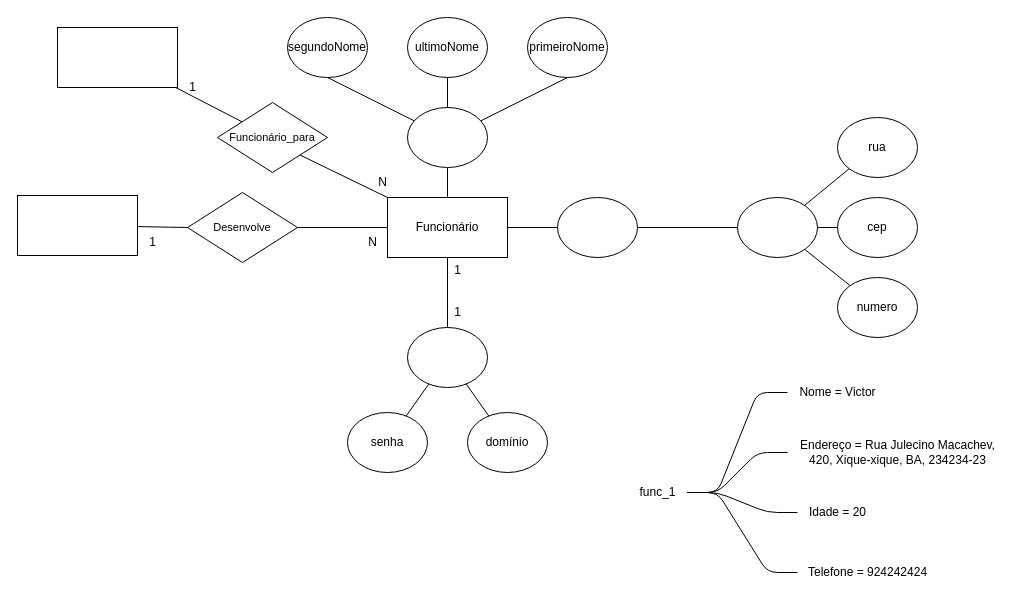
Some shapes in this 1025 by 605 pixel diagram are drawn without their labels. The shapes that lost their labels are listed below. From the top down, each one's box as (x1, y1, x2, y2) in pixels, then its label:
(56, 26, 178, 88): Departamento
(406, 106, 488, 168): nome
(16, 194, 138, 256): Projeto
(556, 196, 638, 258): endereço
(736, 196, 818, 258): logradouro
(406, 326, 488, 388): usuário
